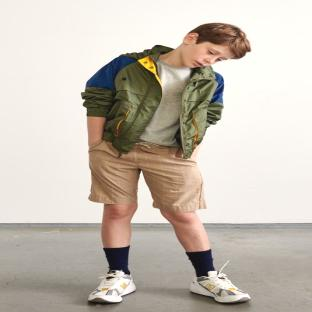Human: (82, 23, 251, 302)
